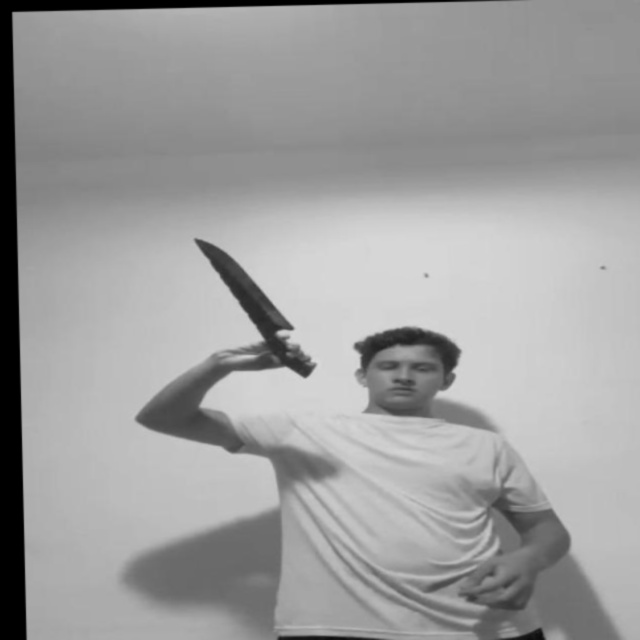Sharp-Object: (190, 234, 295, 337)
